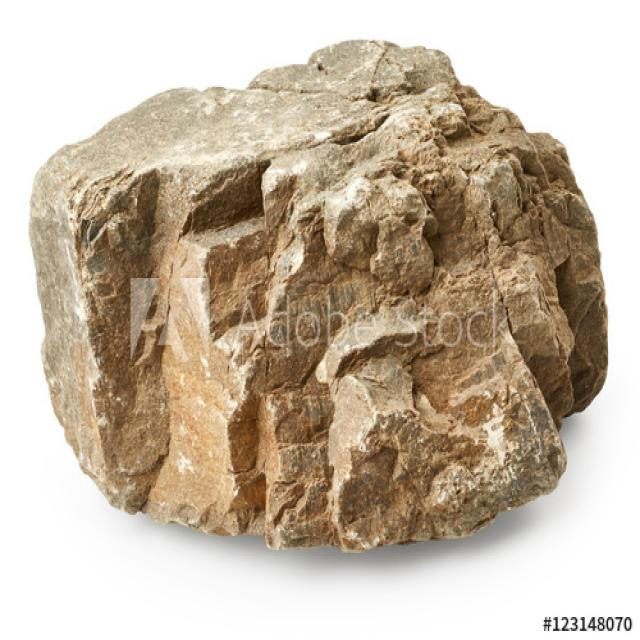Igneous: (29, 43, 616, 545)
